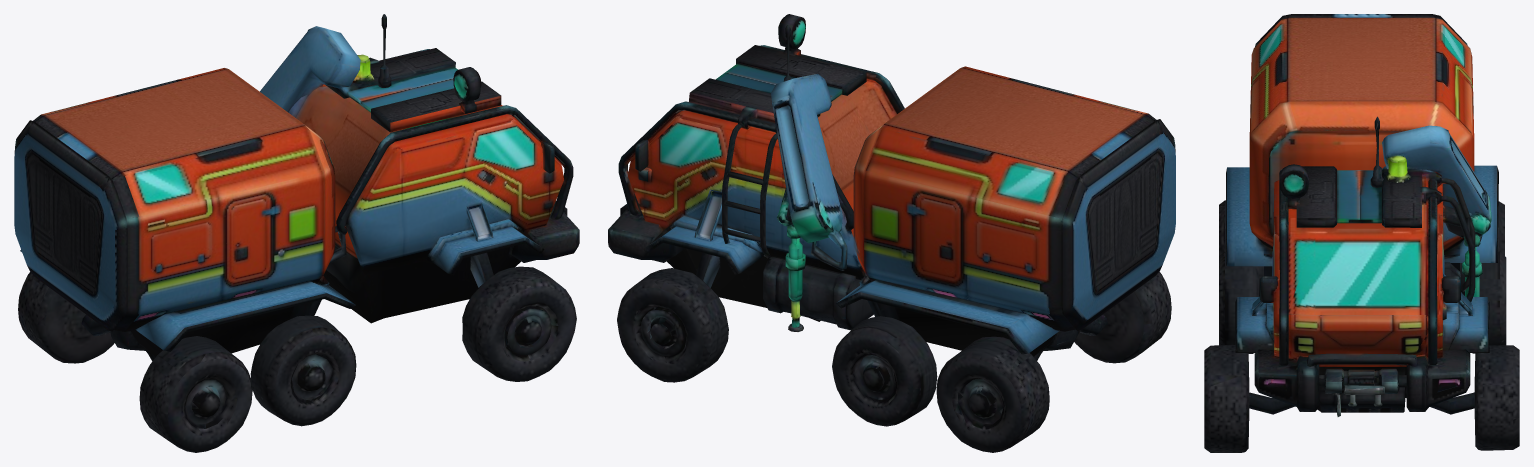
The model's file is tripo_convert_72313d7f-4ed4-492b-a48d-6aa3ddb5ad59.fbx.
3 renders of one model, left to right at view 1: azimuth 30°, elevation 25°; view 2: azimuth 150°, elevation 25°; view 3: azimuth 270°, elevation 25°, orthographic. The views are drawn at different scales.
Visible parts, largest first — view 1: tripo_part_13, tripo_part_1, tripo_part_2, tripo_part_9, tripo_part_7; view 2: tripo_part_13, tripo_part_7, tripo_part_6, tripo_part_8, tripo_part_2; view 3: tripo_part_13, tripo_part_1, tripo_part_6, tripo_part_9, tripo_part_8, tripo_part_2, tripo_part_7.
Part boxes in pixels (x1,y1,x2,y2): tripo_part_13: (14,14,579,361); tripo_part_1: (462,266,576,381); tripo_part_2: (139,336,252,452); tripo_part_9: (250,315,356,426); tripo_part_7: (18,272,114,363); tripo_part_13: (608,14,1175,360); tripo_part_7: (936,336,1049,452); tripo_part_6: (617,268,728,382); tripo_part_8: (832,316,937,426); tripo_part_2: (1074,271,1171,363); tripo_part_13: (1226,14,1498,416); tripo_part_1: (1204,345,1249,452); tripo_part_6: (1474,345,1519,450); tripo_part_9: (1219,251,1258,353); tripo_part_8: (1472,251,1506,353); tripo_part_2: (1219,200,1263,296); tripo_part_7: (1460,201,1504,295).
Size of the model in its own units: 1 by 0.6399 by 0.6008.
